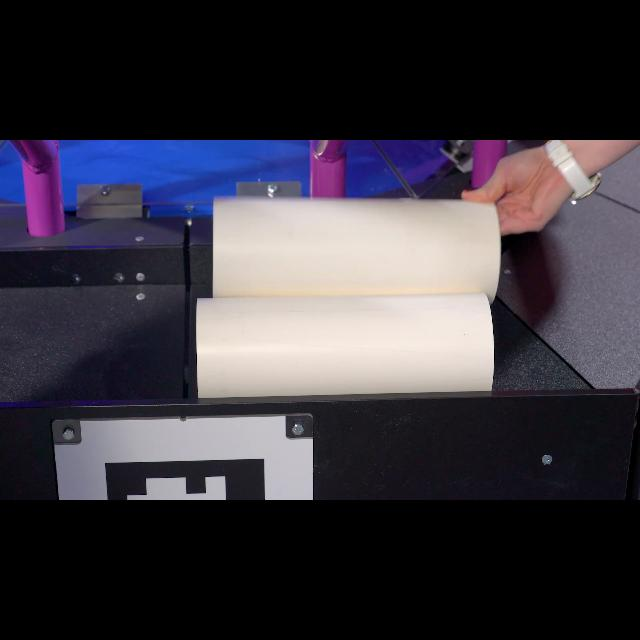CORAL: (195, 292, 495, 398), (212, 195, 502, 302)
